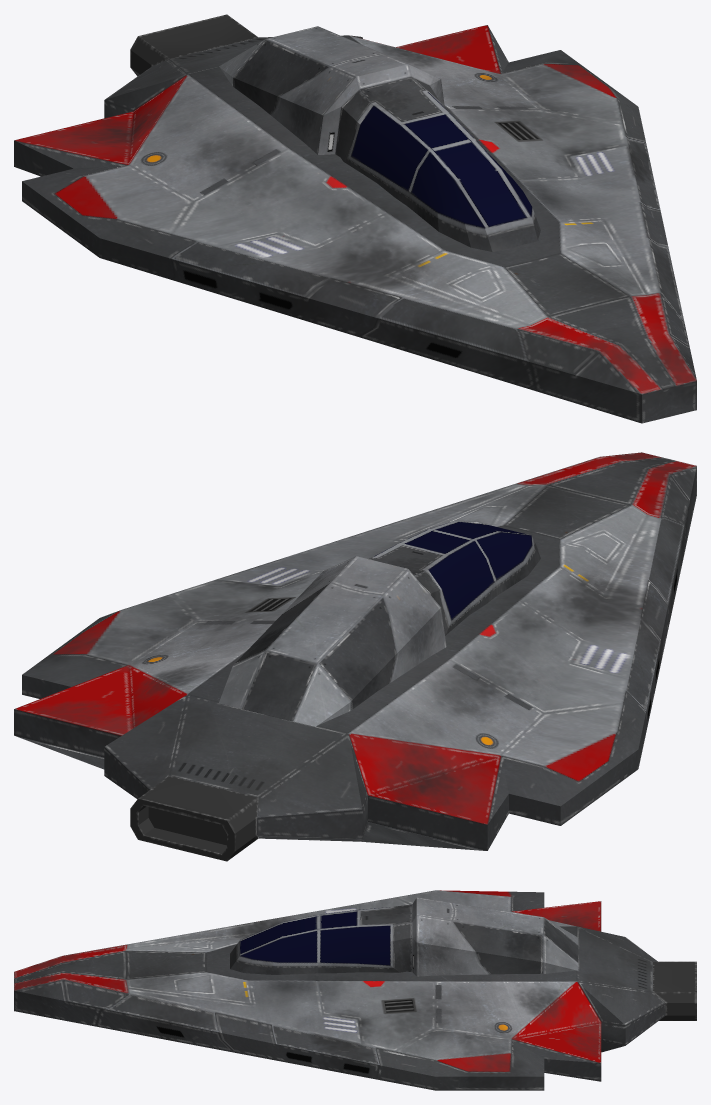
The model's file is Spaceship17.fbx.
3 renders of one model, top to bottom at view 1: azimuth 30°, elevation 25°; view 2: azimuth 150°, elevation 25°; view 3: azimuth 270°, elevation 25°, orthographic. The views are drawn at different scales.
Parts seen in each view (by area): view 1: Spaceship17; view 2: Spaceship17; view 3: Spaceship17.
Boxes of the visible parts, x1,y1,x2,y2 form: Spaceship17: [14, 14, 696, 423]; Spaceship17: [14, 452, 696, 861]; Spaceship17: [14, 890, 696, 1090].
Bounding box in the file's own units: 668 × 205 × 1046.
